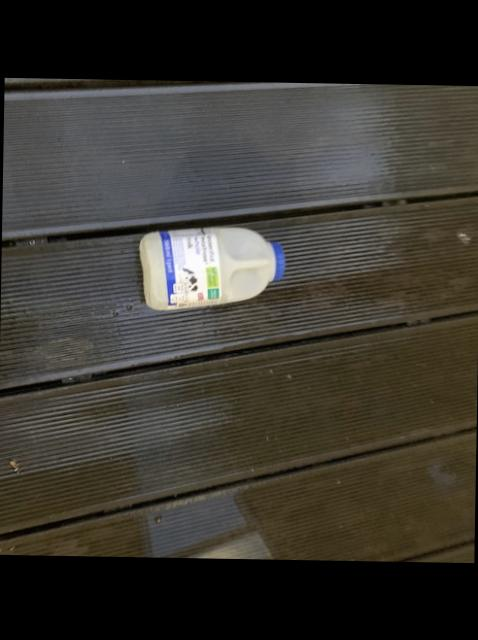plastic: (141, 226, 286, 307)
